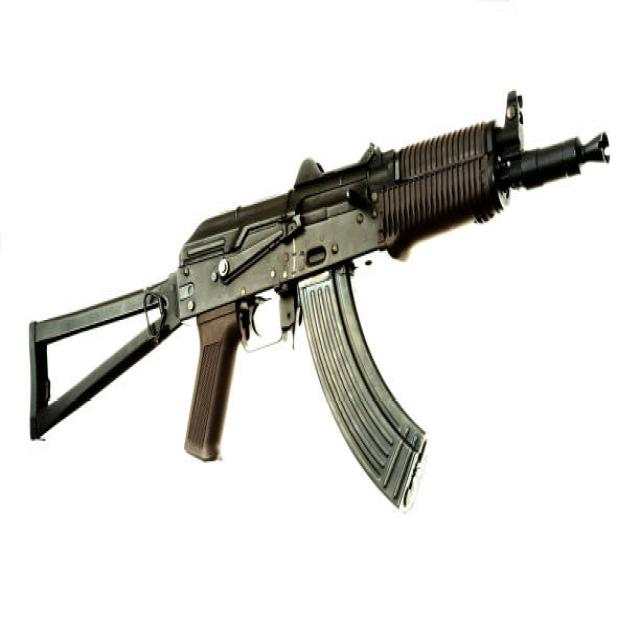rifle: (19, 74, 613, 538)
